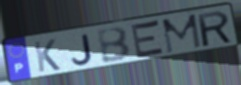B: (95, 26, 133, 65)
E: (130, 19, 167, 60)
J: (70, 32, 94, 66)
K: (32, 38, 62, 74)
M: (160, 12, 204, 56)
R: (195, 9, 234, 49)
